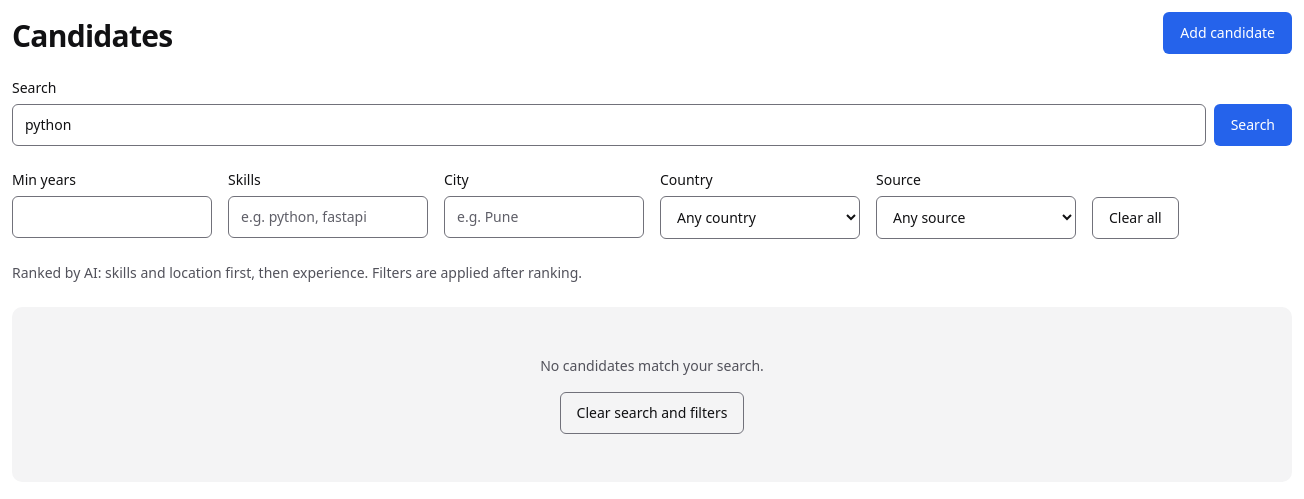
Scenario: CandidateSearchPage › goes back to browsing when the search box is emptied
Expected: the text "No candidates match your search." is shown, [540,356,764,375]
Clear the search field labelled "Search" at (609, 125), box [12,104,1206,146]
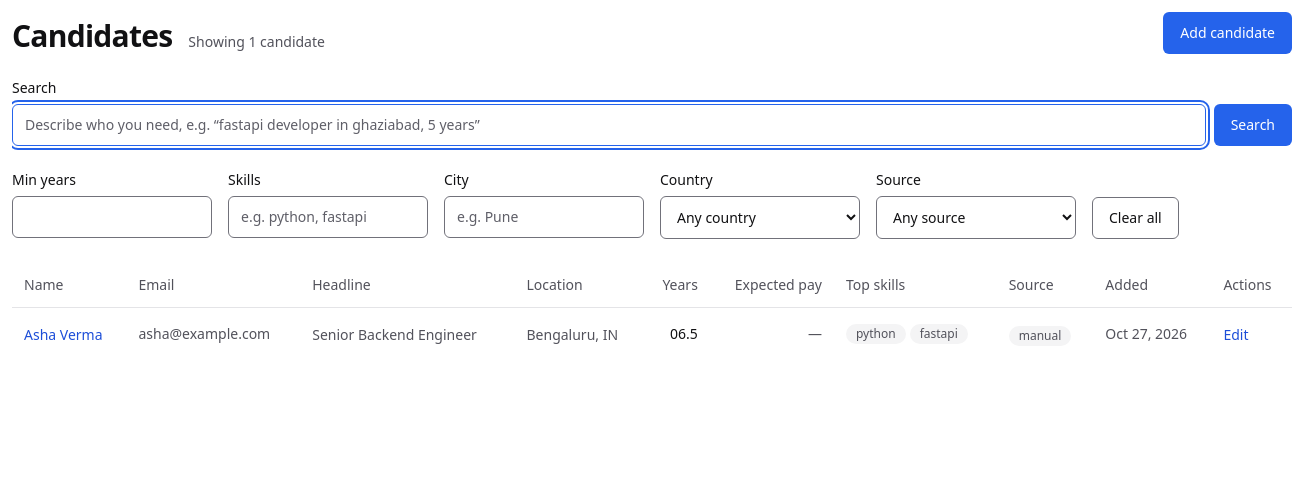
Result: the link "Asha Verma" is shown at [24,325,102,344]
